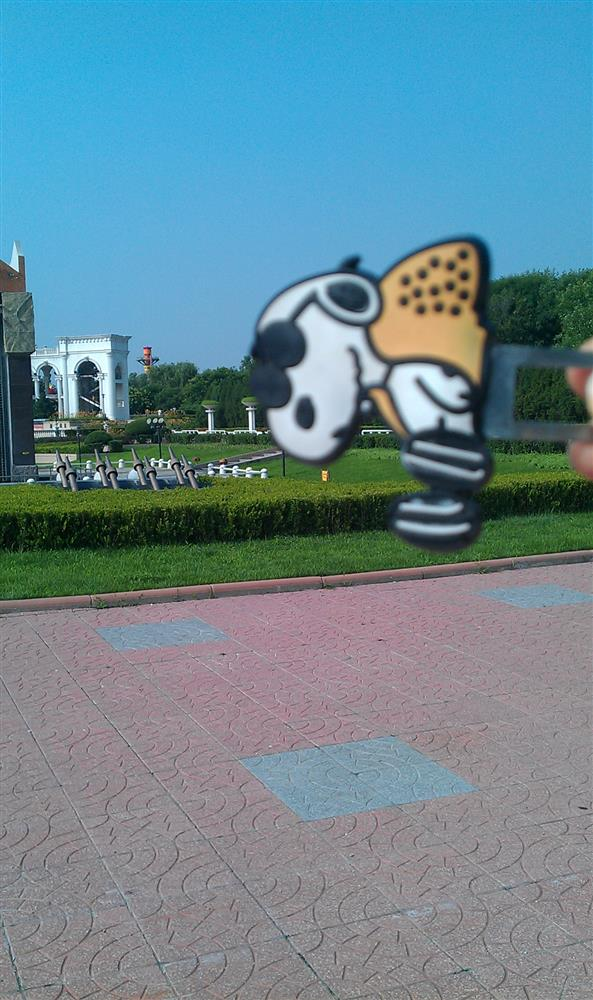DDog: (237, 216, 507, 559)
